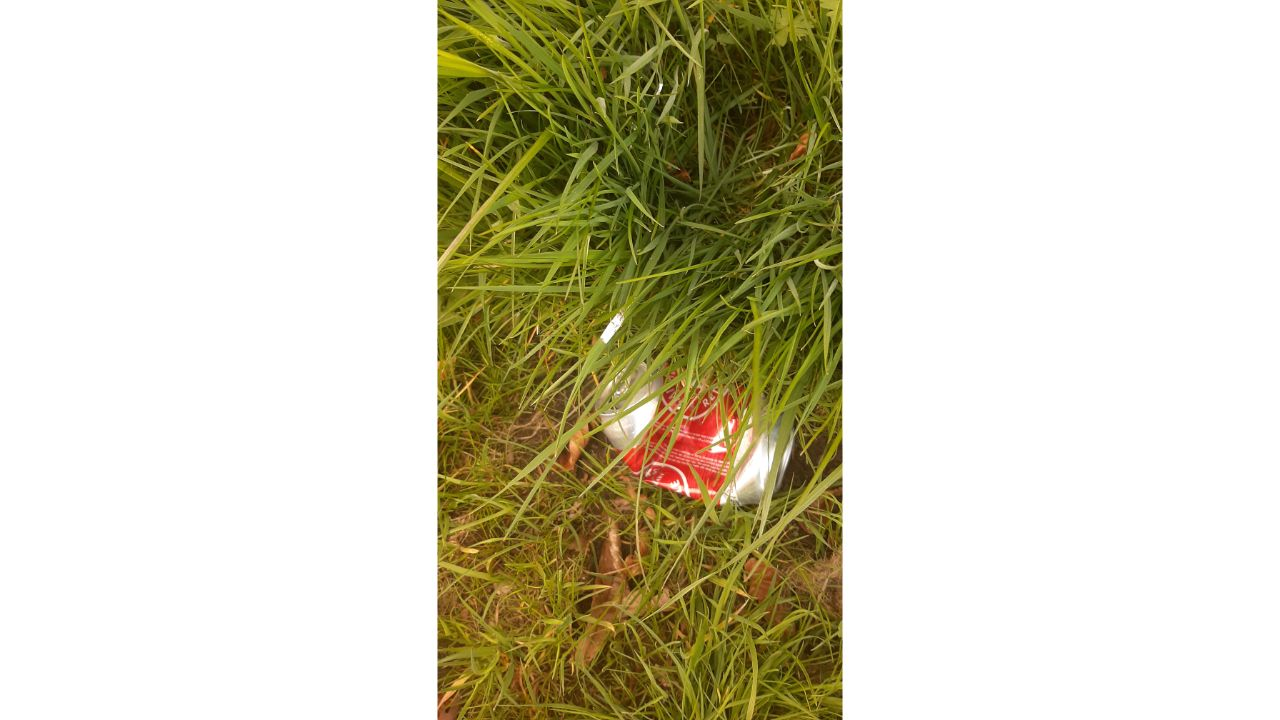Can: (587, 349, 804, 518)
